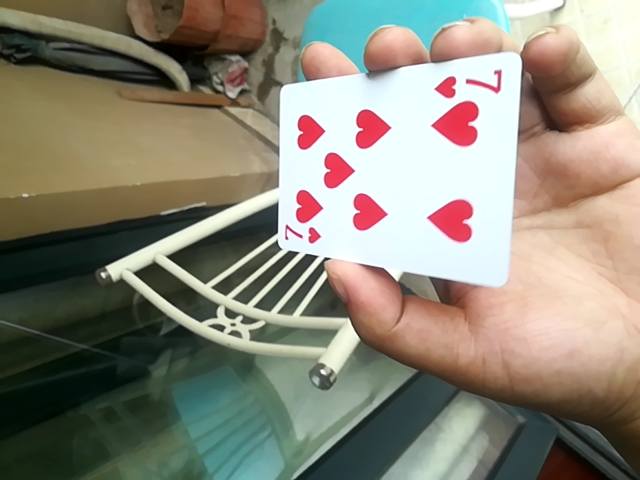hx 7: (275, 51, 519, 289)
